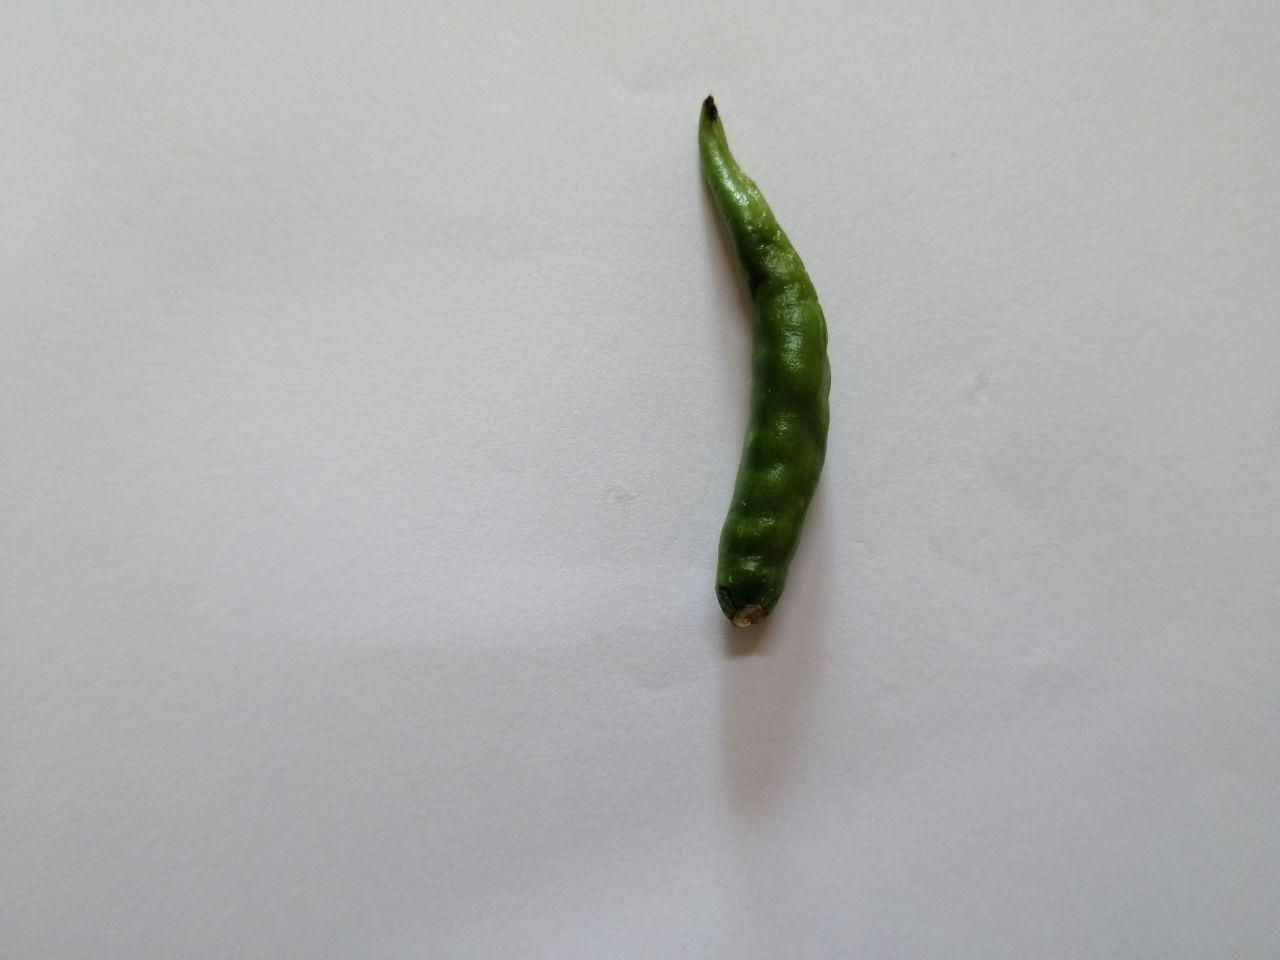lada hijau: (658, 77, 871, 650)
